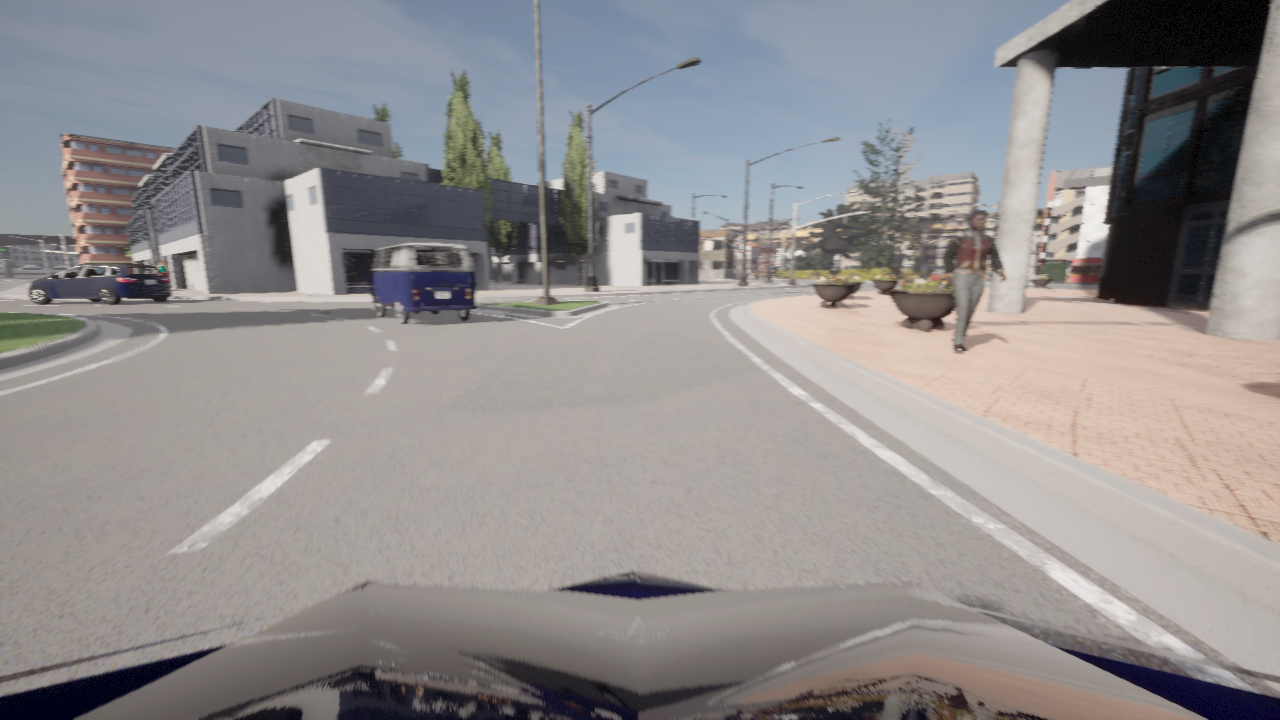cyclist: (0, 569, 1279, 719), (365, 242, 478, 324), (28, 263, 172, 304), (985, 272, 988, 274)
pedestrian: (945, 210, 1005, 351), (157, 260, 170, 277)
